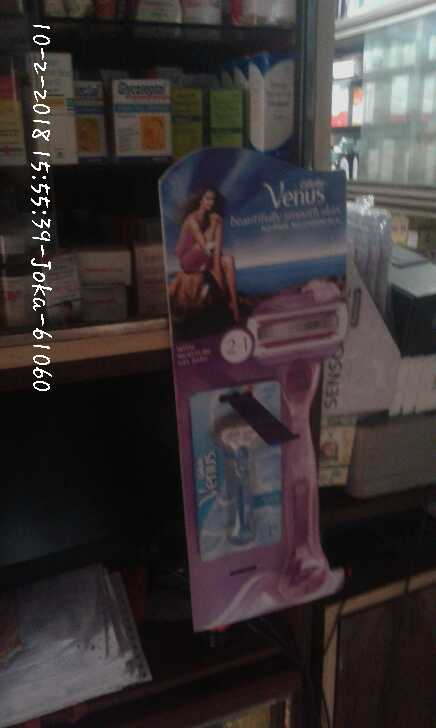venus: (196, 397, 282, 547)
